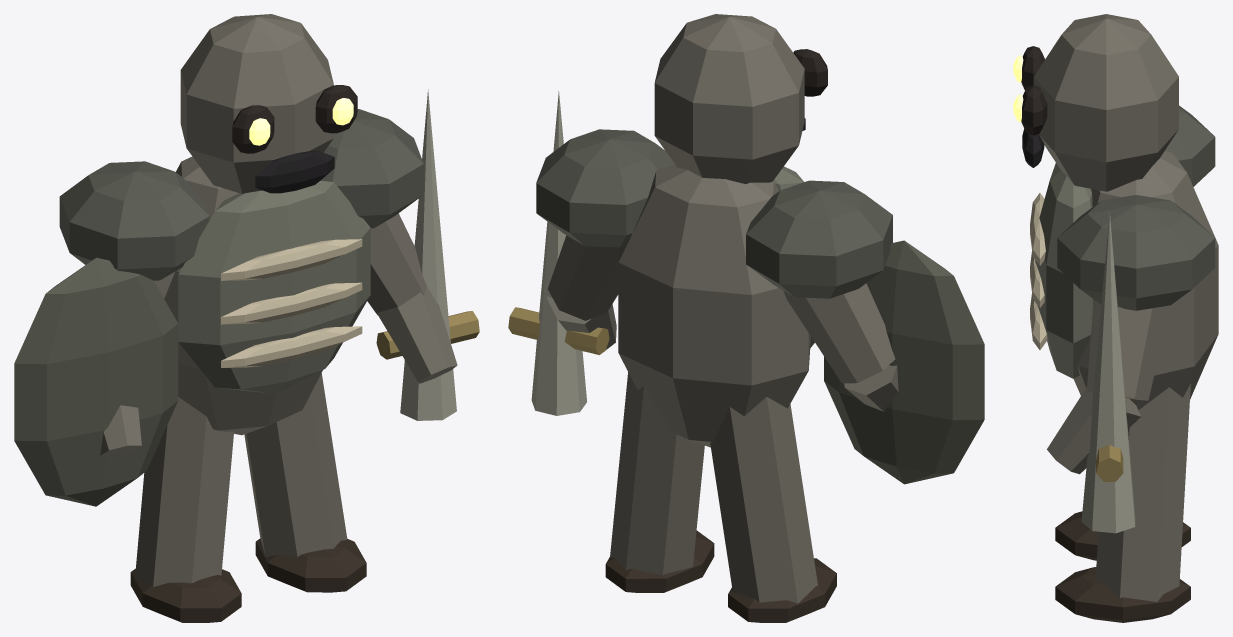
File: fauna-ossuary_knight.glb
3 renders of one model, left to right at view 1: azimuth 30°, elevation 25°; view 2: azimuth 150°, elevation 25°; view 3: azimuth 270°, elevation 25°, orthographic. The views are drawn at different scales.
Visible parts, largest first — view 1: Fauna_ossuary_knight; view 2: Fauna_ossuary_knight; view 3: Fauna_ossuary_knight.
Part boxes in pixels (x1,y1,x2,y2): Fauna_ossuary_knight: [14, 14, 479, 622]; Fauna_ossuary_knight: [508, 14, 984, 622]; Fauna_ossuary_knight: [1013, 14, 1218, 622].
Size of the model in its own units: 1.58 by 1.88 by 0.6171.
